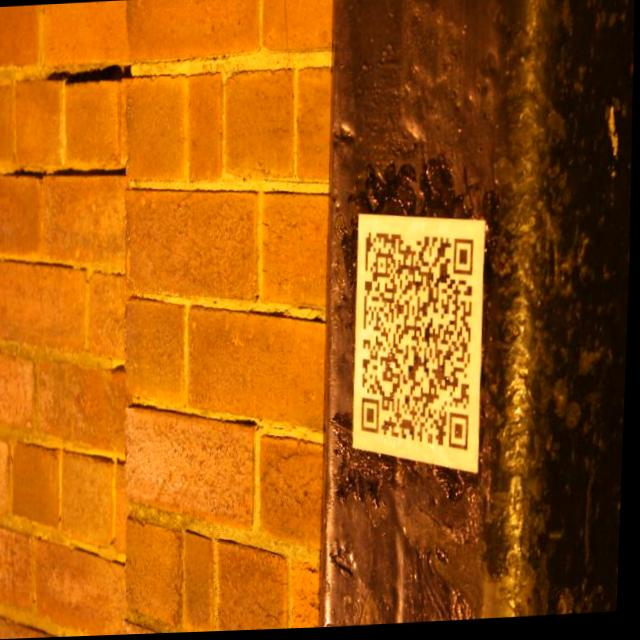qrcode: (360, 230, 478, 459)
